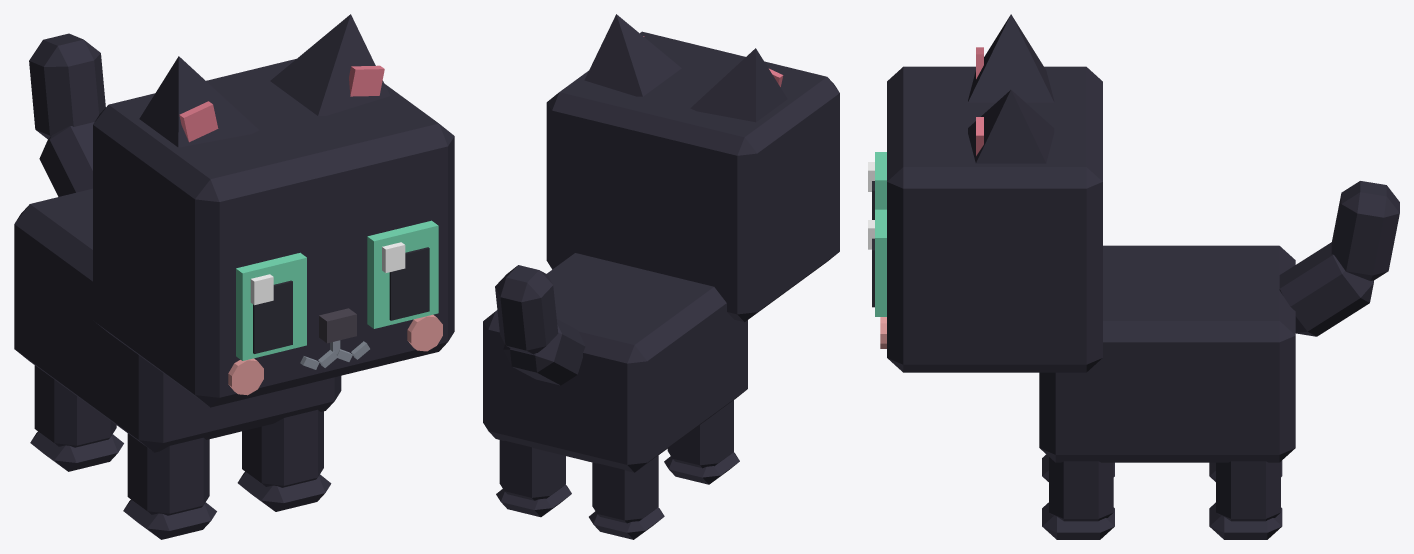
The model's file is CleanACat_Cat_Inky.fbx.
3 views of the same model, side by side, from view 1: azimuth 30°, elevation 25°; view 2: azimuth 150°, elevation 25°; view 3: azimuth 270°, elevation 25° (orthographic). The views are drawn at different scales.
Parts seen in each view (by area): view 1: CleanACat_Cat_Inky_Head, CleanACat_Cat_Inky_Body, CleanACat_Cat_Inky_Tail, CleanACat_Cat_Inky_LegF2, CleanACat_Cat_Inky_LegF1, CleanACat_Cat_Inky_Eye1, CleanACat_Cat_Inky_Eye2, CleanACat_Cat_Inky_EarL, CleanACat_Cat_Inky_LegB2, CleanACat_Cat_Inky_EarR; view 2: CleanACat_Cat_Inky_Head, CleanACat_Cat_Inky_Body, CleanACat_Cat_Inky_Tail, CleanACat_Cat_Inky_LegB2, CleanACat_Cat_Inky_EarL, CleanACat_Cat_Inky_LegB1, CleanACat_Cat_Inky_EarR, CleanACat_Cat_Inky_LegF2; view 3: CleanACat_Cat_Inky_Head, CleanACat_Cat_Inky_Body, CleanACat_Cat_Inky_Tail, CleanACat_Cat_Inky_LegB1, CleanACat_Cat_Inky_LegF1, CleanACat_Cat_Inky_EarL, CleanACat_Cat_Inky_EarR, CleanACat_Cat_Inky_Eye1, CleanACat_Cat_Inky_Eye2.
Boxes of the visible parts, x1,y1,x2,y2 form: CleanACat_Cat_Inky_Head: [93, 59, 454, 407]; CleanACat_Cat_Inky_Body: [14, 188, 341, 452]; CleanACat_Cat_Inky_Tail: [29, 33, 105, 196]; CleanACat_Cat_Inky_LegF2: [123, 433, 216, 539]; CleanACat_Cat_Inky_LegF1: [237, 409, 331, 511]; CleanACat_Cat_Inky_Eye1: [367, 220, 438, 328]; CleanACat_Cat_Inky_Eye2: [236, 252, 306, 360]; CleanACat_Cat_Inky_EarL: [270, 14, 389, 115]; CleanACat_Cat_Inky_LegB2: [30, 365, 123, 471]; CleanACat_Cat_Inky_EarR: [139, 56, 259, 147]; CleanACat_Cat_Inky_Head: [546, 31, 839, 322]; CleanACat_Cat_Inky_Body: [483, 253, 747, 472]; CleanACat_Cat_Inky_Tail: [495, 265, 585, 385]; CleanACat_Cat_Inky_LegB2: [589, 455, 664, 539]; CleanACat_Cat_Inky_EarL: [584, 14, 681, 96]; CleanACat_Cat_Inky_LegB1: [496, 440, 571, 517]; CleanACat_Cat_Inky_EarR: [690, 48, 787, 122]; CleanACat_Cat_Inky_LegF2: [664, 400, 739, 484]; CleanACat_Cat_Inky_Head: [880, 66, 1102, 372]; CleanACat_Cat_Inky_Body: [1039, 245, 1295, 462]; CleanACat_Cat_Inky_Tail: [1279, 181, 1399, 336]; CleanACat_Cat_Inky_LegB1: [1209, 461, 1282, 539]; CleanACat_Cat_Inky_LegF1: [1042, 457, 1114, 539]; CleanACat_Cat_Inky_EarL: [968, 90, 1054, 163]; CleanACat_Cat_Inky_EarR: [968, 14, 1054, 102]; CleanACat_Cat_Inky_Eye1: [868, 209, 886, 316]; CleanACat_Cat_Inky_Eye2: [868, 152, 886, 219].
Bounding box in the file's own units: 1 × 1.86 × 1.97.
1 material, 1 textured.
